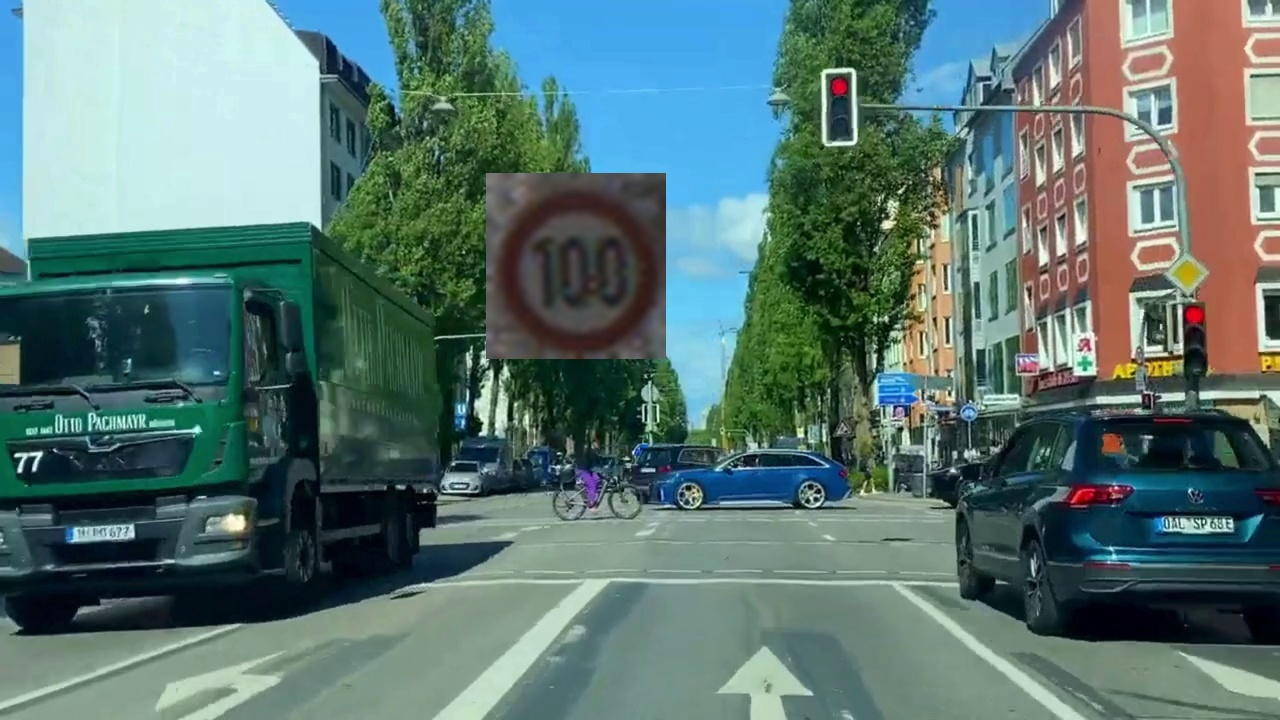Speed 100: (486, 173, 666, 359)
